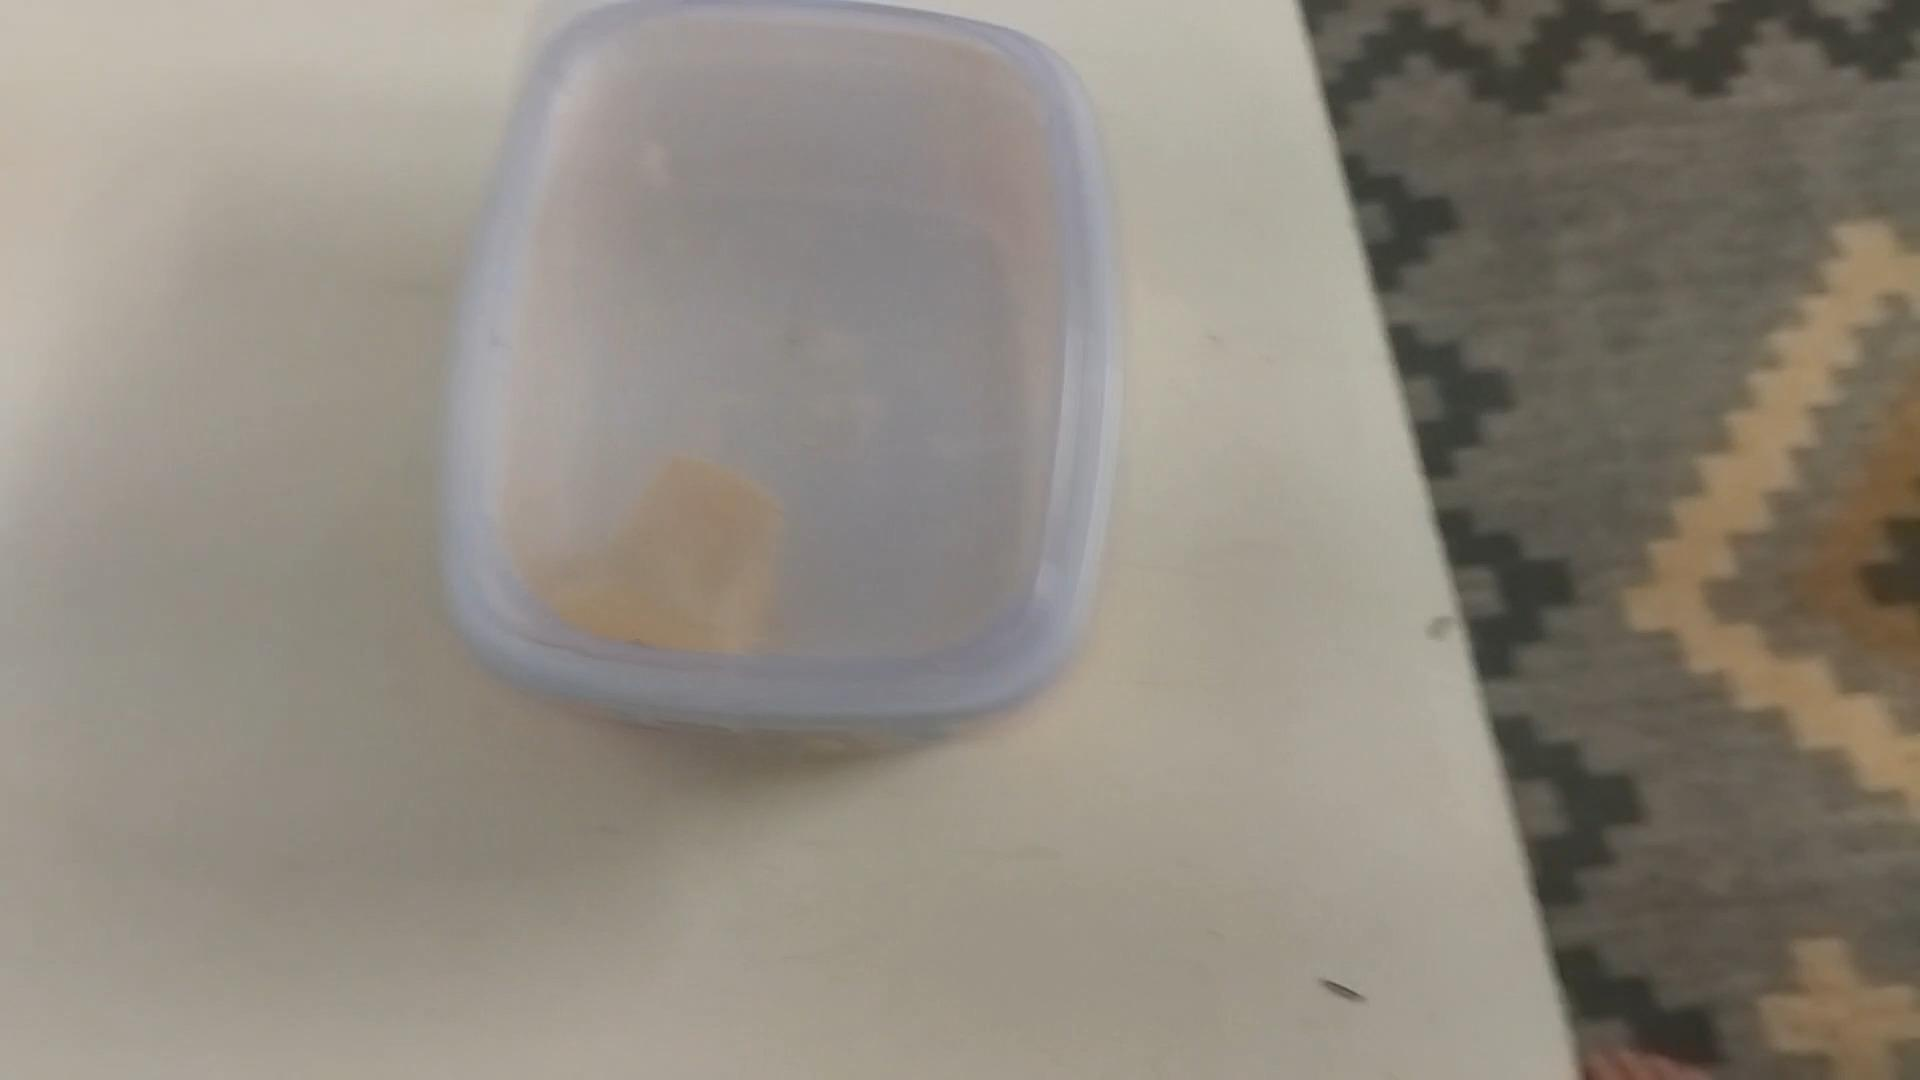butter: (450, 13, 1114, 746)
